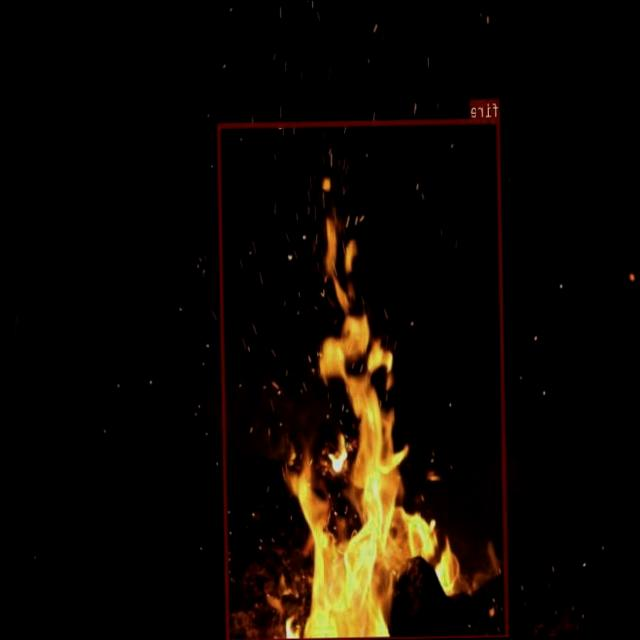fire: (218, 115, 509, 640)
